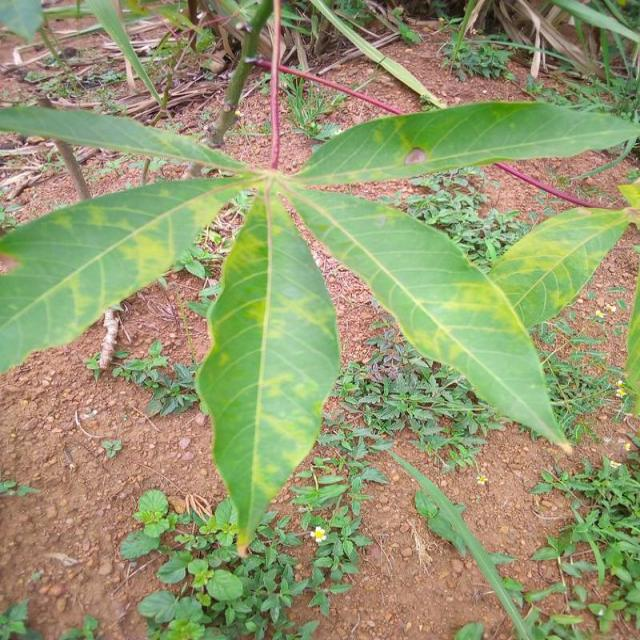cassava leaf: (0, 4, 638, 554), (279, 180, 573, 454), (194, 183, 342, 552), (0, 172, 251, 375), (291, 98, 638, 186)
